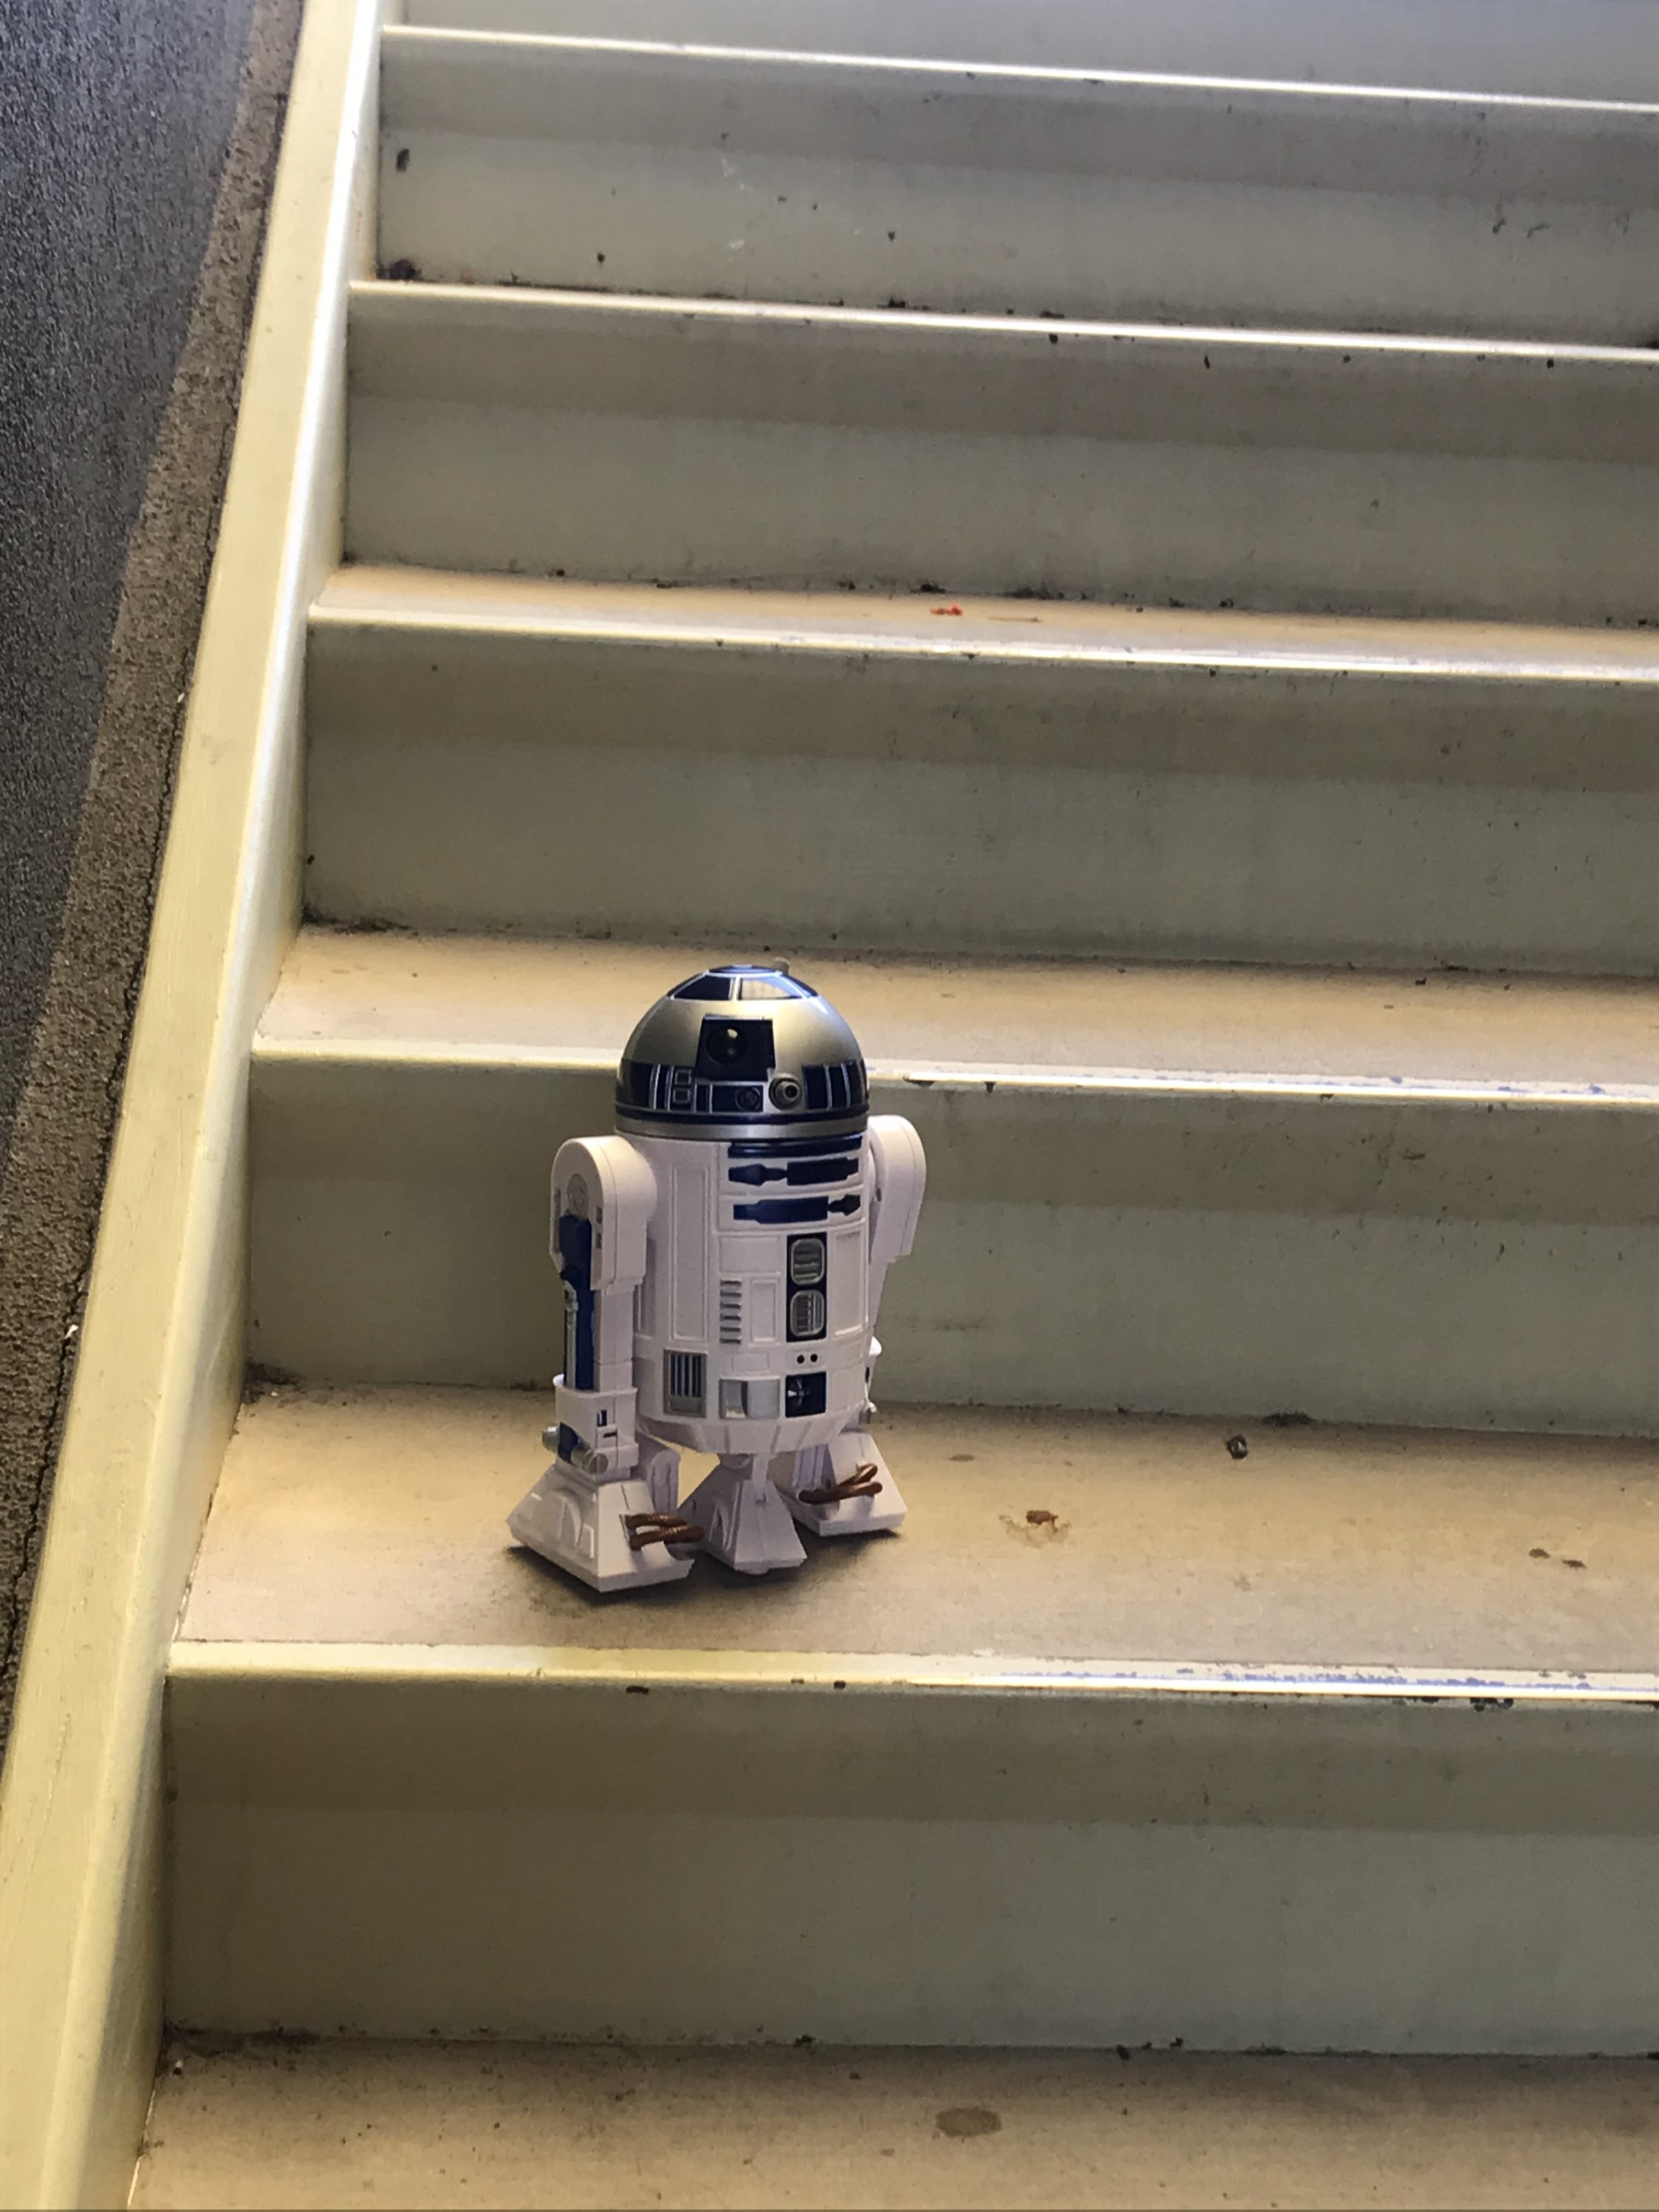r2d2: (516, 960, 929, 1587)
